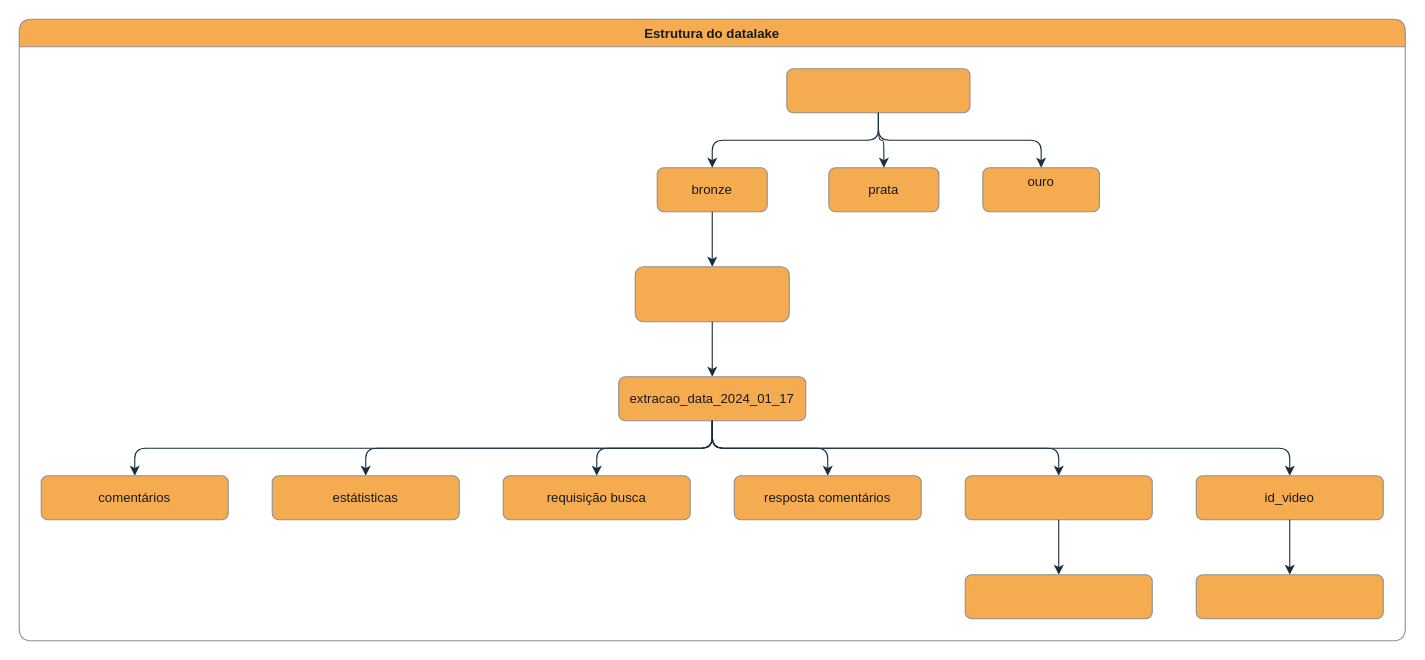
This 1425x660 diagram has some shape labels left out. The box of each missing label's shape, as (x1, y1, x2, y2) in pixels:
assunto_cities_skylines: (634, 266, 789, 322)
dados: (786, 68, 970, 113)
id_comentario: (964, 475, 1152, 520)
id_comentario.pkl: (964, 574, 1152, 619)
id_video.pkl: (1195, 574, 1383, 619)
